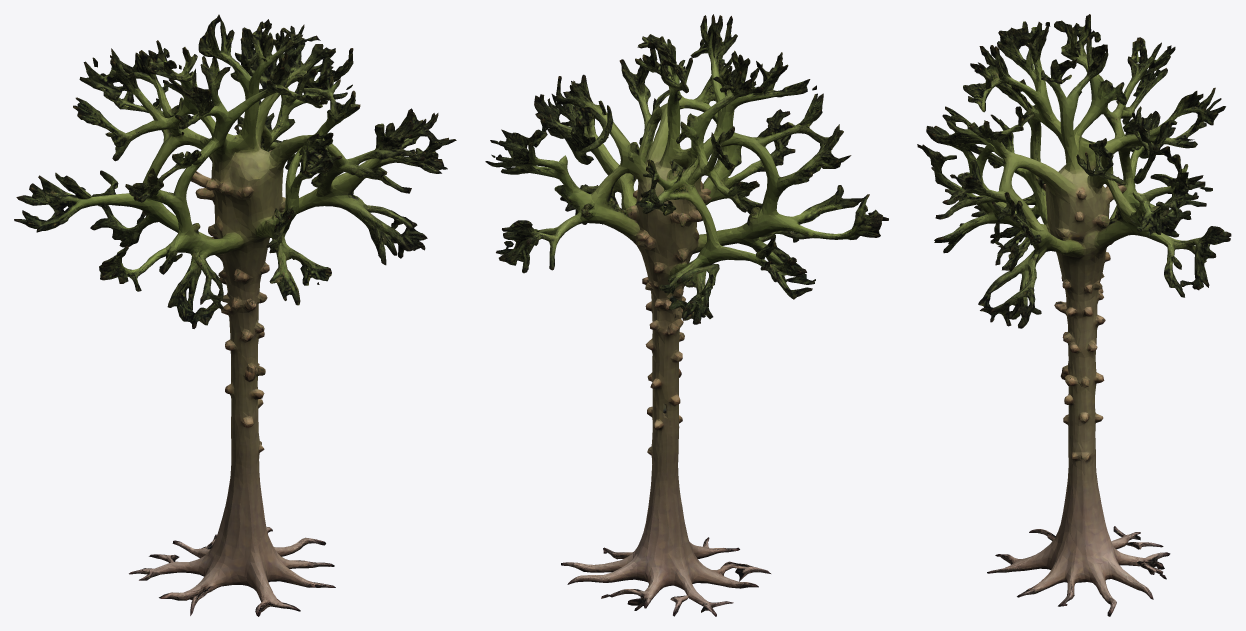
3 views of the same model, side by side, from view 1: azimuth 30°, elevation 25°; view 2: azimuth 150°, elevation 25°; view 3: azimuth 270°, elevation 25° (orthographic). The views are drawn at different scales.
Parts seen in each view (by area): view 1: world; view 2: world; view 3: world.
Boxes of the visible parts, box(x1,y1,x2,y2) form: world: box(14, 14, 456, 616); world: box(485, 14, 888, 616); world: box(917, 14, 1231, 616).
Bounding box in the file's own units: 1.8 × 2.68 × 1.45.
1 material, 1 textured.
